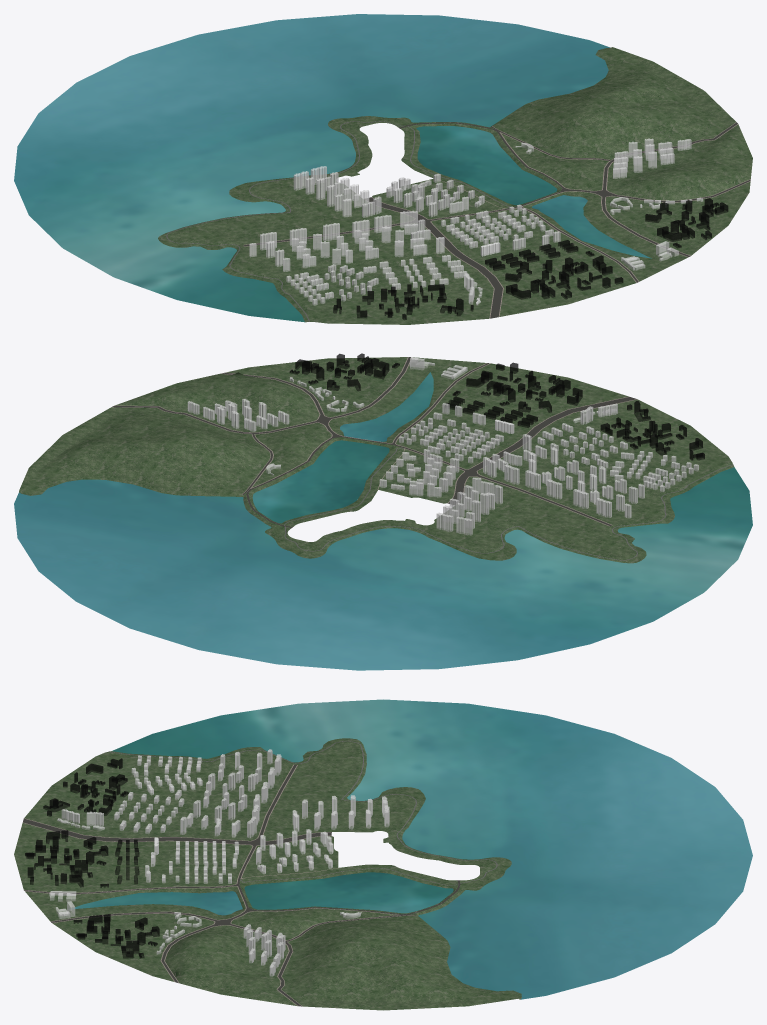
3 views of the same model, one above another, from view 1: azimuth 30°, elevation 25°; view 2: azimuth 150°, elevation 25°; view 3: azimuth 270°, elevation 25° (orthographic).
Parts seen in each view (by area): view 1: water, DX, TK; view 2: water, DX, TK; view 3: water, DX, TK.
Boxes of the visible parts, x1,y1,x2,y2 form: water: (14,14,651,322); DX: (158,47,752,324); TK: (249,138,728,320); water: (14,372,752,670); DX: (19,357,734,563); TK: (187,353,704,535); water: (72,699,752,999); DX: (14,738,521,1010); TK: (25,749,389,976).
Bounding box in the file's own units: 2552 × 78.73 × 2552.
Materials: 7 (6 with a texture image).
